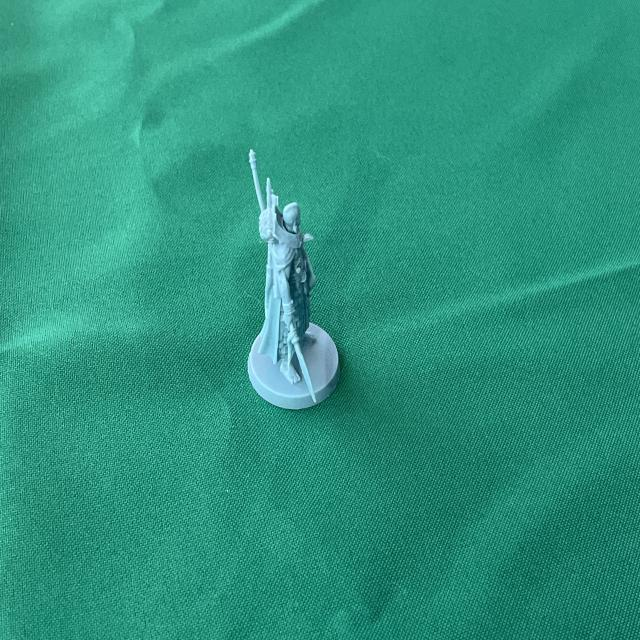isis_follower: (248, 148, 348, 411)
